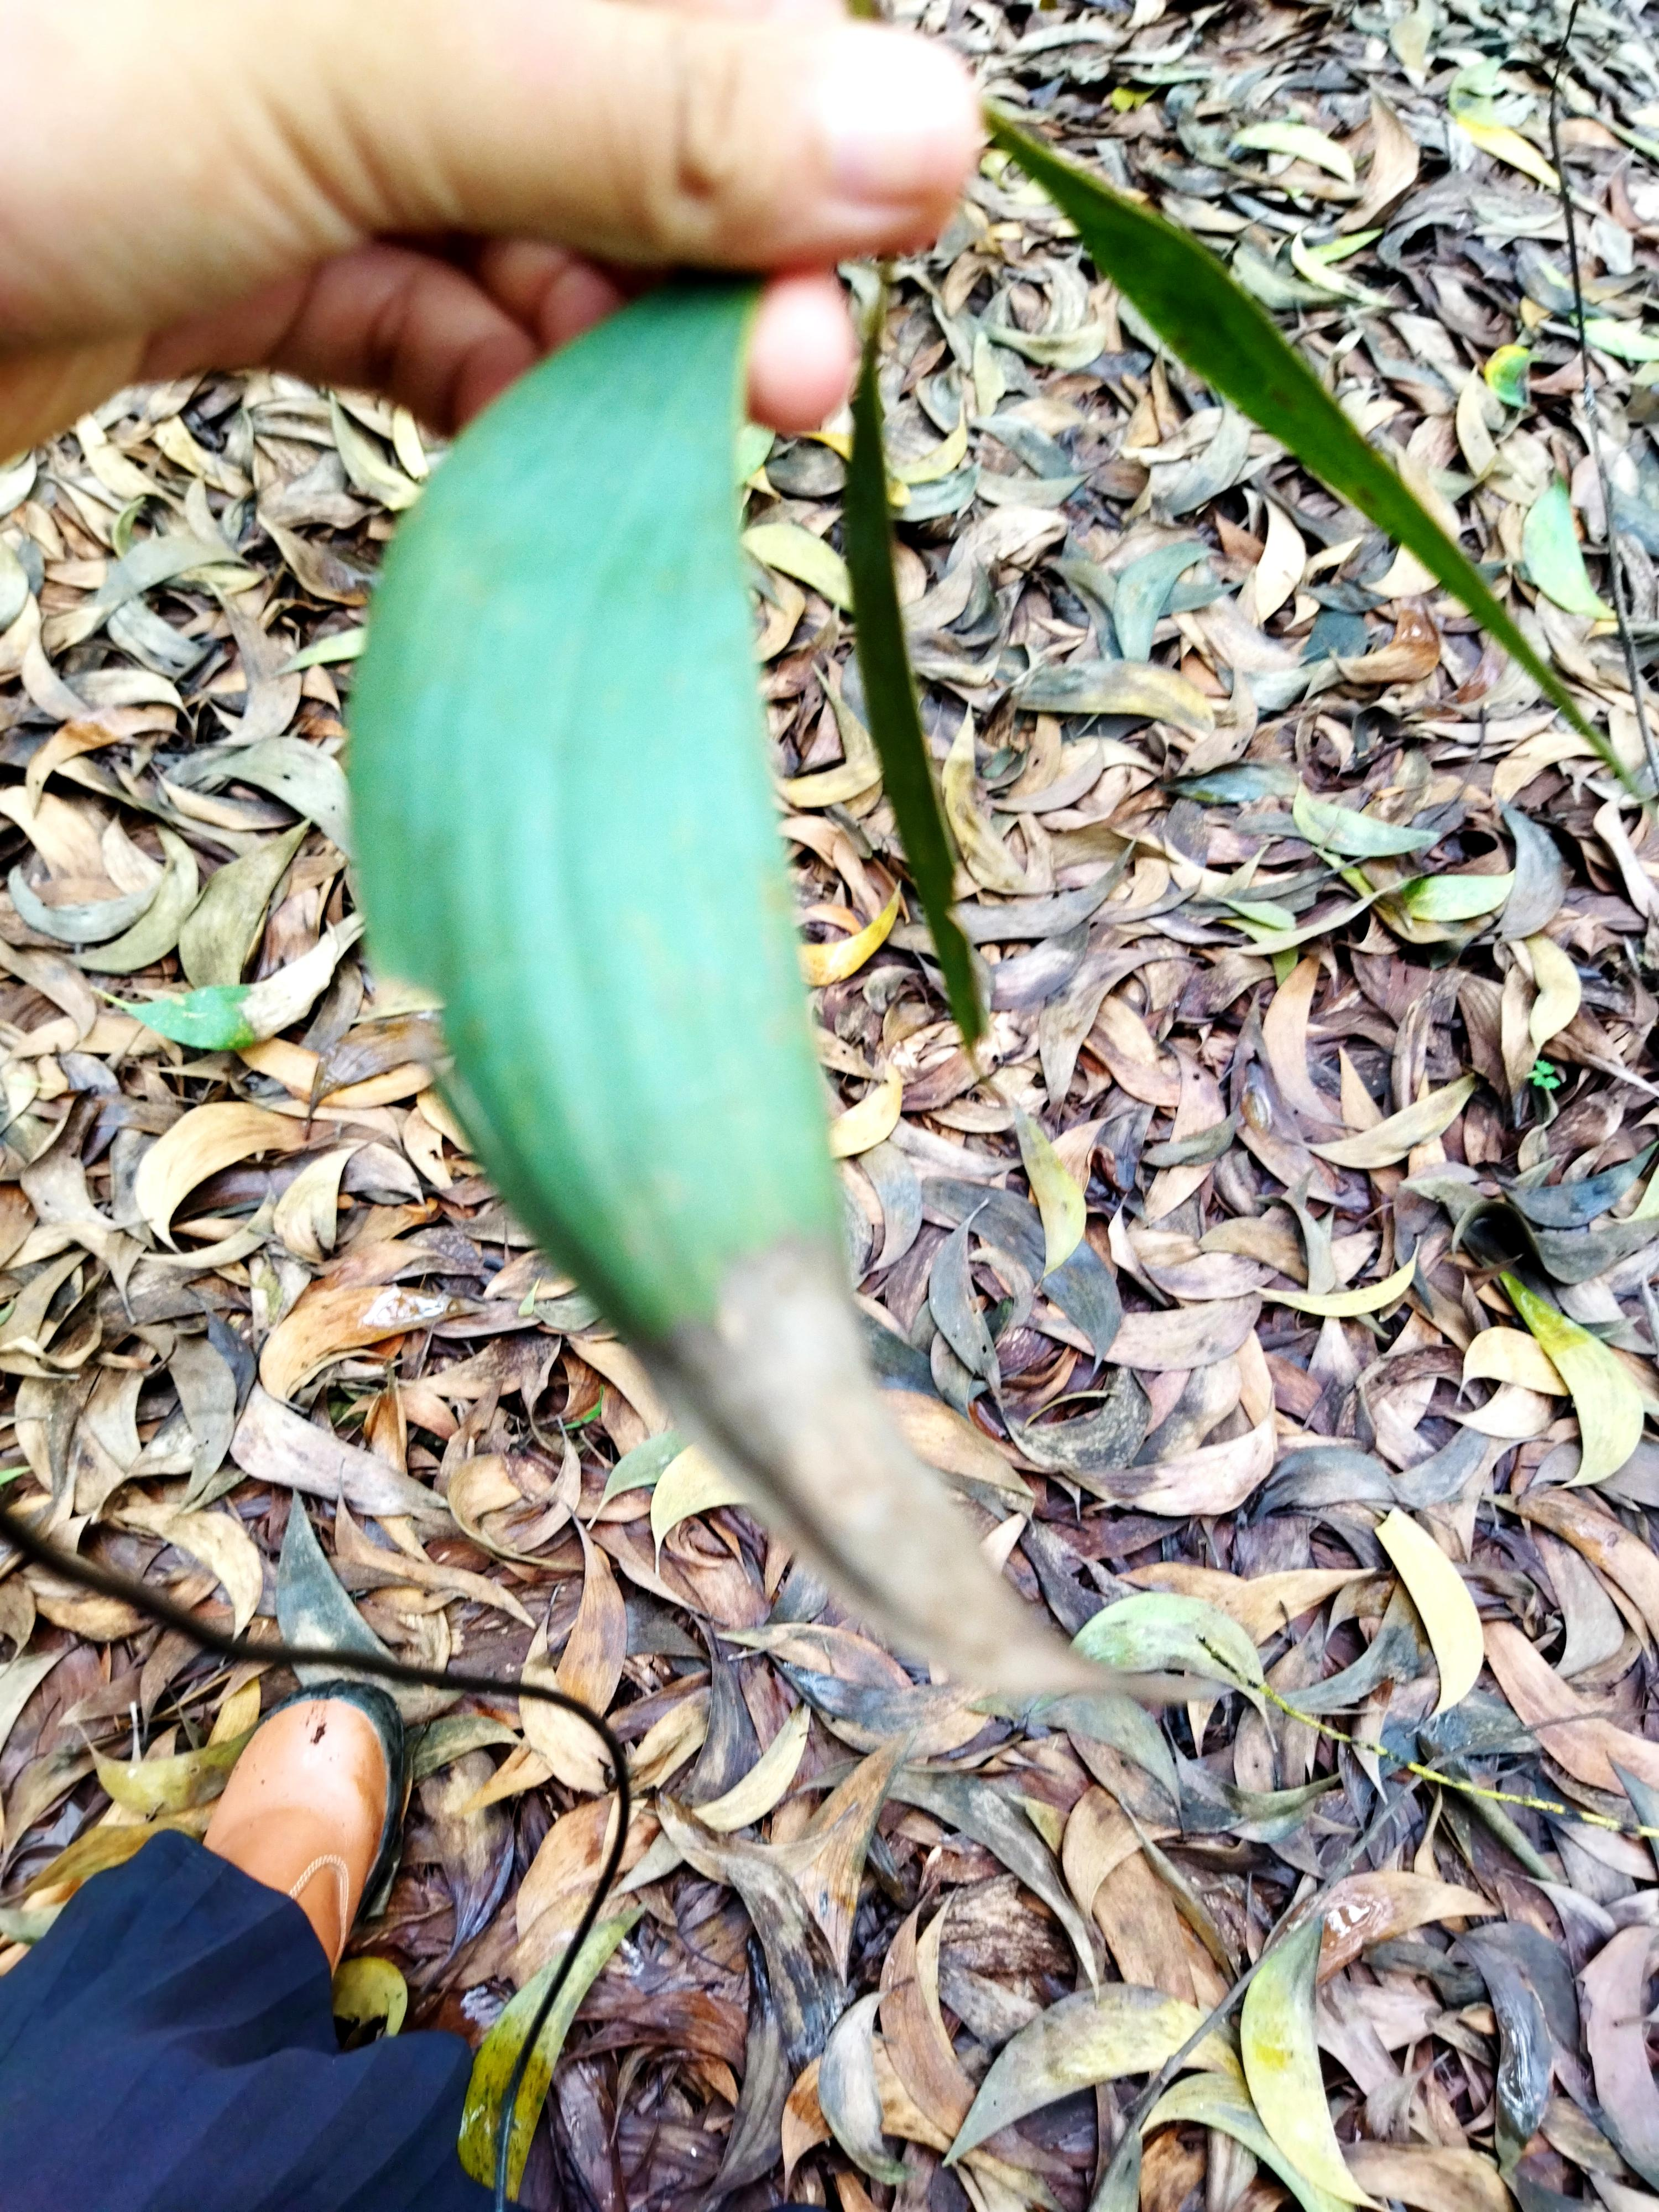Cylindrocladium: (626, 1245, 1160, 1770)
